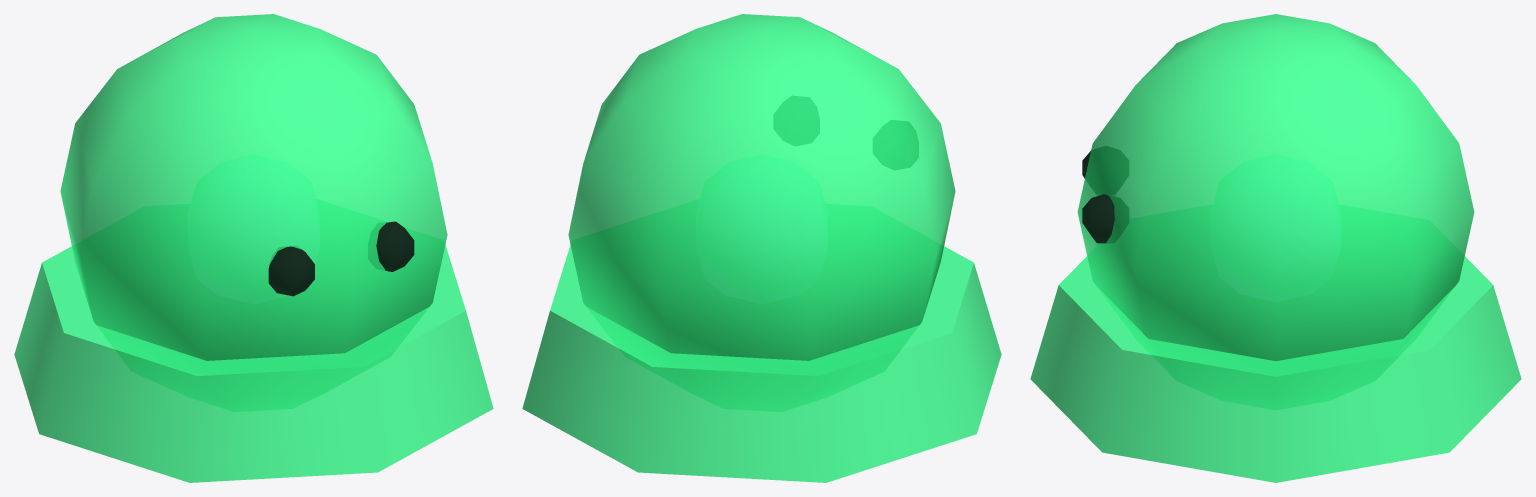
The model's file is slime.glb.
3 views of the same model, side by side, from view 1: azimuth 30°, elevation 25°; view 2: azimuth 150°, elevation 25°; view 3: azimuth 270°, elevation 25° (orthographic).
Parts seen in each view (by area): view 1: enemy_slime; view 2: enemy_slime; view 3: enemy_slime.
Boxes of the visible parts, x1=… form: enemy_slime: x1=14, y1=14, x2=493, y2=482; enemy_slime: x1=522, y1=14, x2=1001, y2=482; enemy_slime: x1=1030, y1=14, x2=1521, y2=482.
Size of the model in its own units: 1.04 by 0.84 by 1.04.
